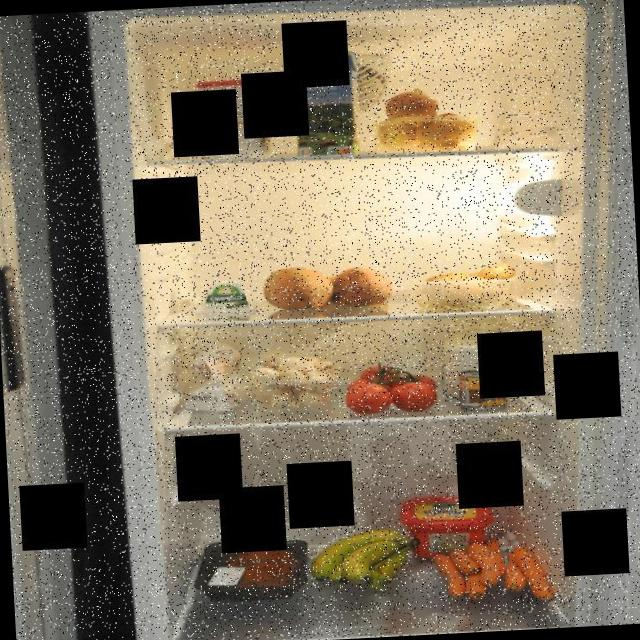Carne vacuno: (190, 536, 312, 606)
Cebolla: (366, 83, 485, 156)
Champiñones: (249, 344, 345, 412)
Leche: (288, 42, 365, 161)
Mantequilla: (395, 492, 497, 562)
Patata: (419, 259, 523, 311)
Plátano: (308, 524, 424, 596)
Tomate: (342, 359, 444, 416)
Zanahoria: (424, 530, 560, 612)
